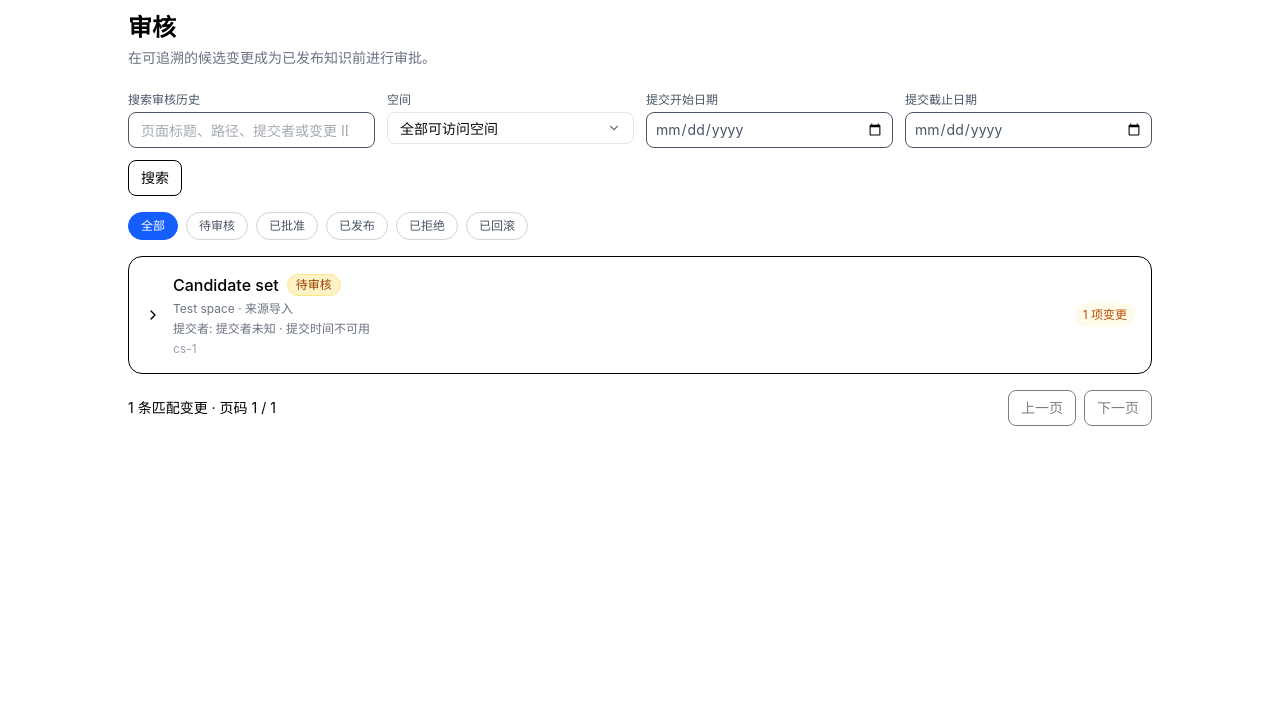
ReviewPage detail refresh › shows lifecycle-neutral source alignment in zh-CN for pending_review
Click the button "Candidate set" at x=226, y=285, box [129, 257, 1151, 373]
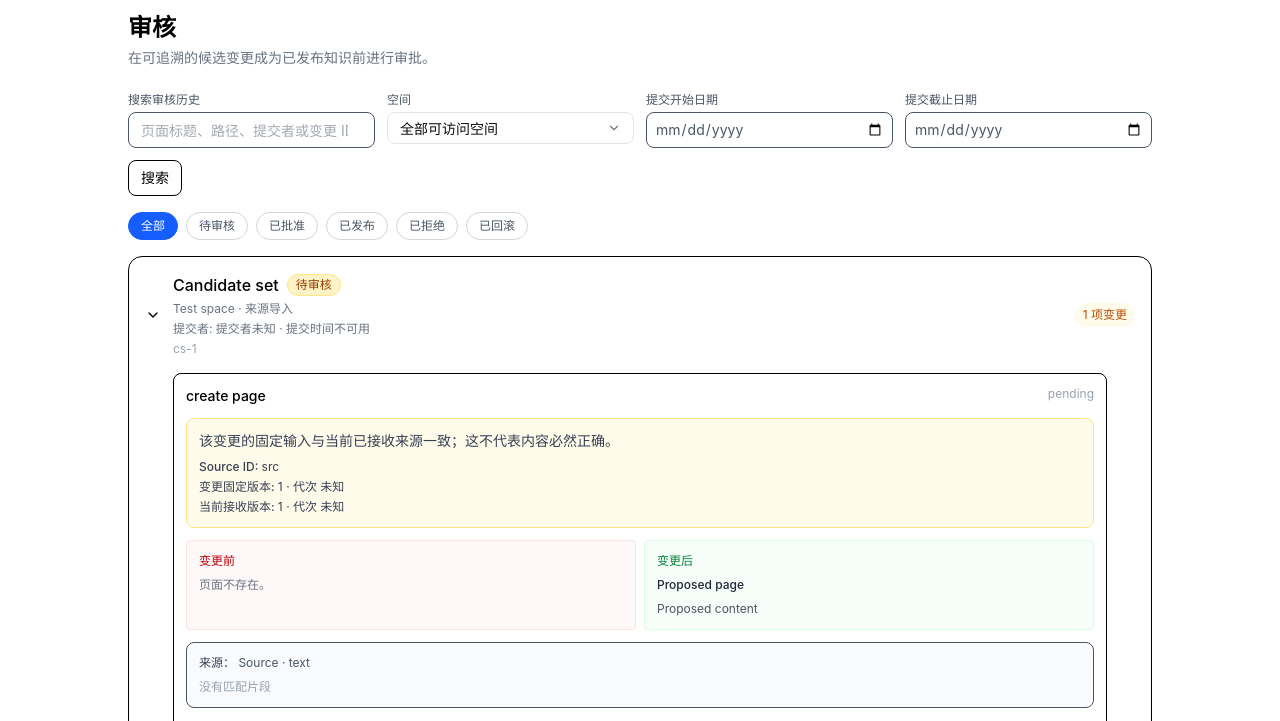
Result: the text "Proposed page" is shown at [657, 577, 744, 592]
Result: the element that starts with "该变更的固定输入与当前已接收来源一致；这不代表内容必然正确。" is shown at [199, 432, 619, 449]
Result: the element that starts with "该变更的固定输入与当前已接收来源一致；这不代表内容必然正确。" shows "变更固定版本" at [199, 479, 271, 494]
